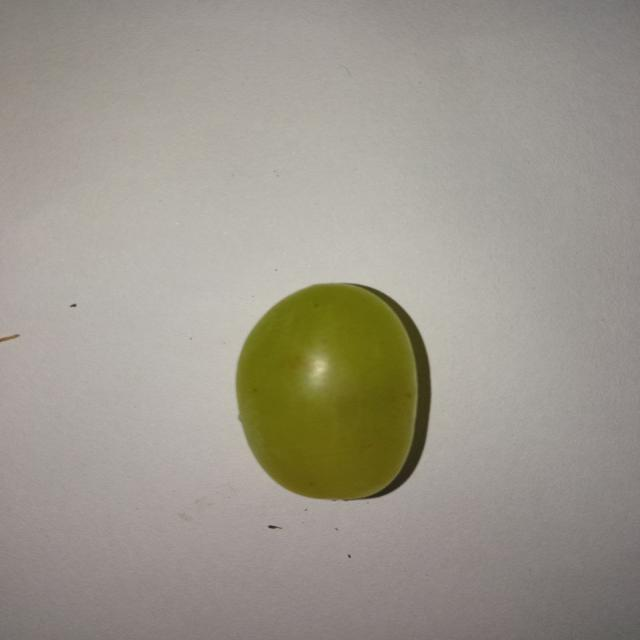fresh_grape: (231, 281, 424, 500)
